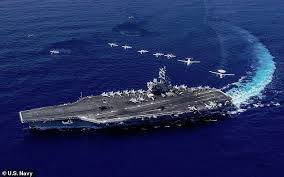maybay_muctieu: (211, 66, 235, 77), (182, 57, 198, 67), (164, 51, 174, 61)
tau_muctieu: (17, 80, 235, 132)
